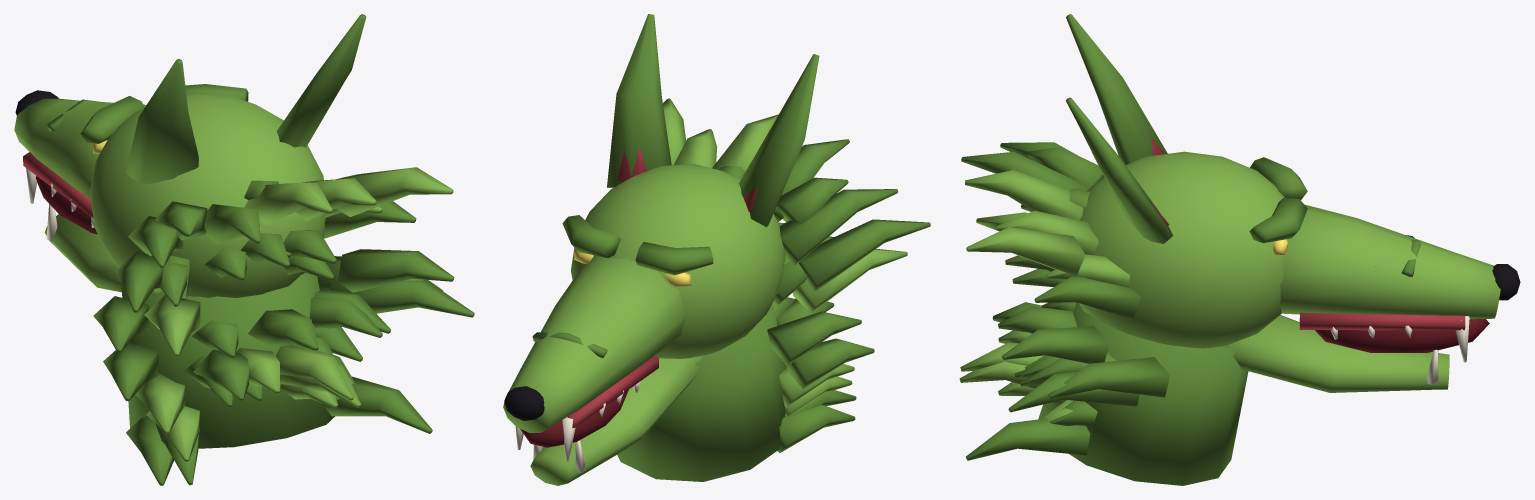
Rendered from were_head.glb.
3 views of the same model, side by side, from view 1: azimuth 30°, elevation 25°; view 2: azimuth 150°, elevation 25°; view 3: azimuth 270°, elevation 25° (orthographic). The views are drawn at different scales.
Parts seen in each view (by area): view 1: piece; view 2: piece; view 3: piece.
Boxes of the visible parts, left/top/right/bottom form: piece: left=14, top=14, right=474, bottom=485; piece: left=503, top=14, right=930, bottom=485; piece: left=959, top=14, right=1520, bottom=485.
Size of the model in its own units: 0.4581 by 0.5394 by 0.6793.
